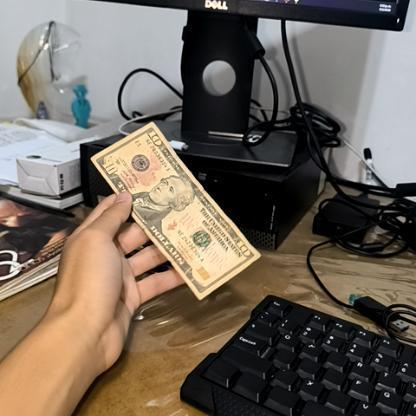dollar_front: (90, 119, 258, 300)
